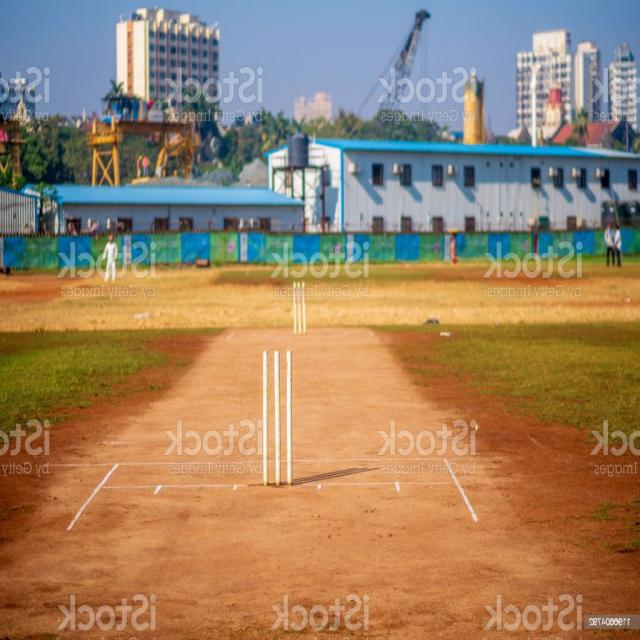stump: (262, 346, 293, 491), (292, 280, 305, 334)
